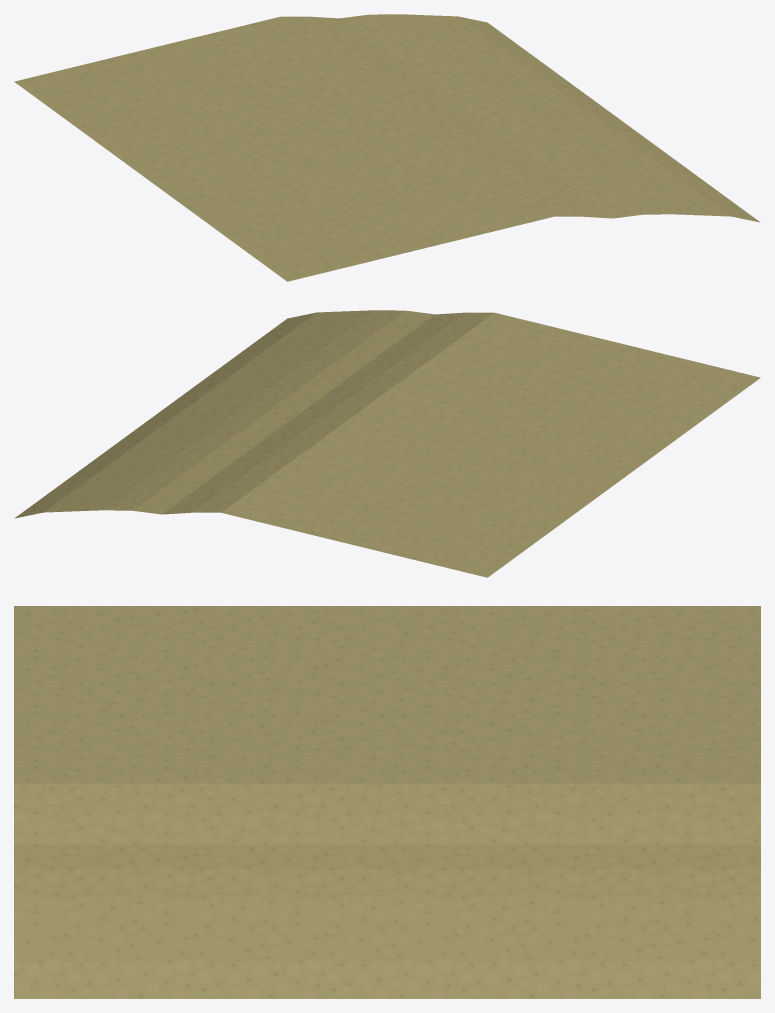
Rendered from chunk_0002.glb.
3 views of the same model, one above another, from view 1: azimuth 30°, elevation 25°; view 2: azimuth 150°, elevation 25°; view 3: azimuth 270°, elevation 25° (orthographic). The views are drawn at different scales.
Parts seen in each view (by area): view 1: chunk_0002; view 2: chunk_0002; view 3: chunk_0002.
Boxes of the visible parts, x1,y1,x2,y2 form: chunk_0002: (14, 14, 760, 281); chunk_0002: (14, 310, 760, 577); chunk_0002: (14, 606, 760, 998).
Size of the model in its own units: 10 by 1.14 by 10.
1 material, 1 textured.
